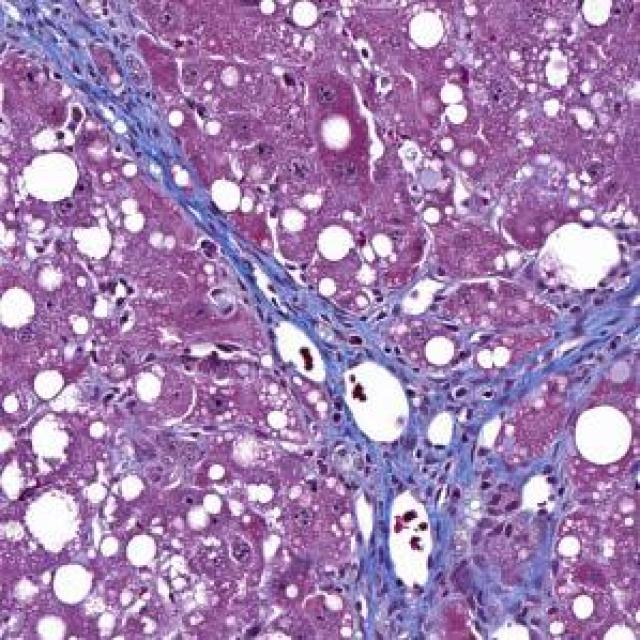fibrosis: (332, 430, 567, 587), (242, 253, 415, 383), (4, 2, 178, 94)
